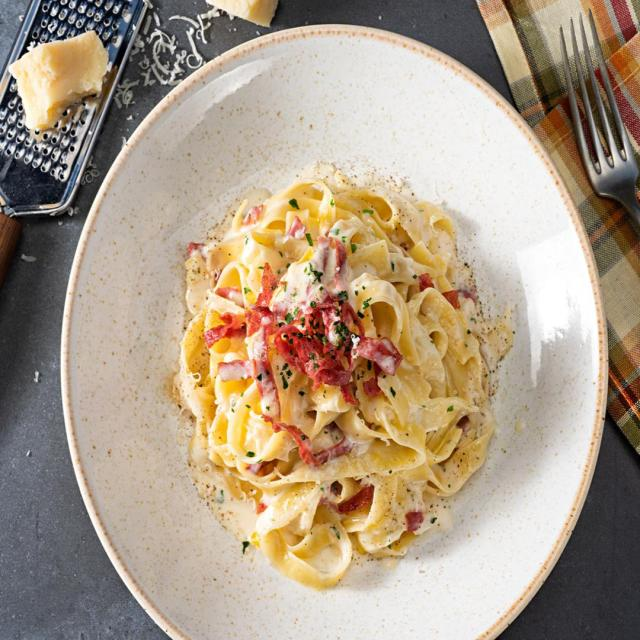pasta: (166, 176, 520, 596)
